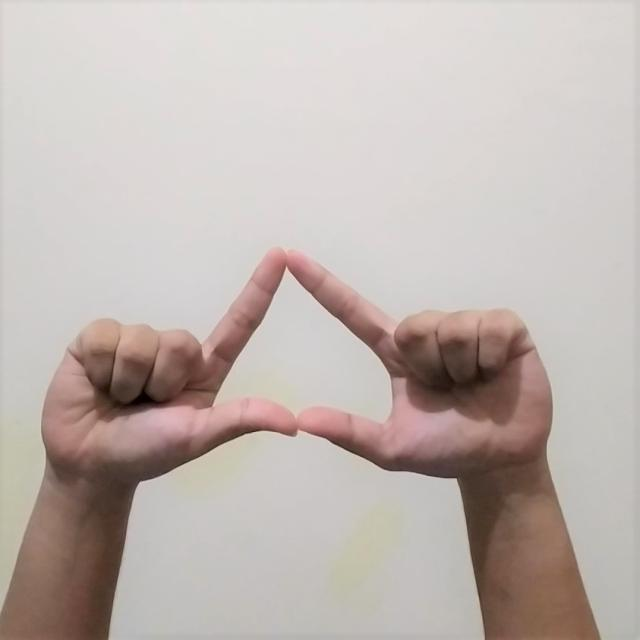A: (0, 248, 599, 640)
